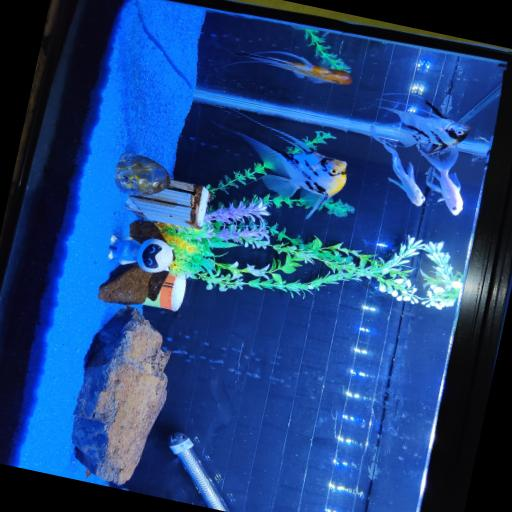Fish: (216, 113, 346, 218), (380, 100, 469, 154), (369, 127, 424, 206), (224, 51, 351, 85), (421, 148, 462, 215)
